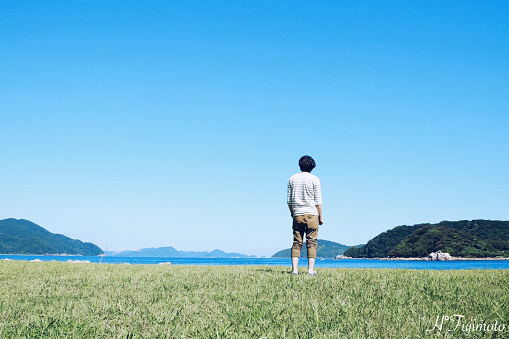em pe: (279, 150, 323, 277)
